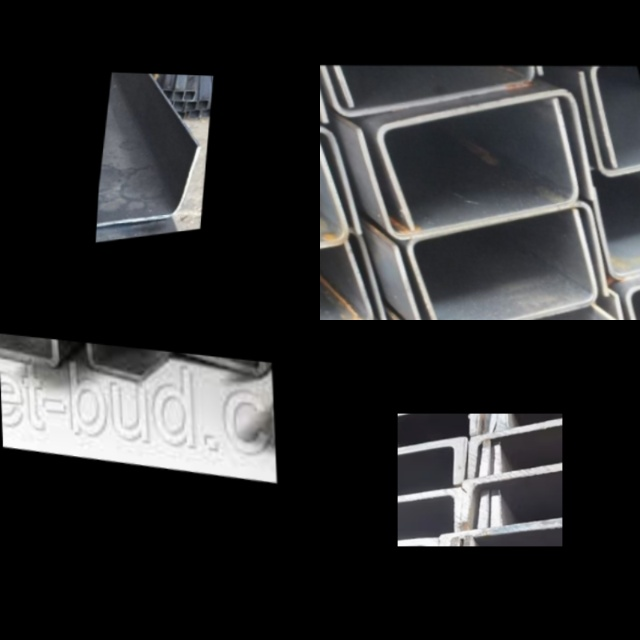Shveller: (348, 96, 595, 241), (369, 88, 604, 232), (386, 203, 614, 320), (397, 203, 625, 320), (580, 144, 640, 275), (462, 454, 562, 531), (97, 147, 200, 221), (320, 236, 390, 320), (468, 414, 562, 476), (398, 441, 488, 499), (398, 493, 490, 545), (493, 463, 562, 526), (320, 247, 377, 320), (438, 514, 562, 546), (497, 414, 562, 472), (464, 512, 562, 546), (398, 414, 481, 453), (156, 351, 268, 379), (606, 251, 640, 320), (86, 343, 142, 383), (613, 247, 640, 320), (0, 333, 55, 367), (486, 414, 562, 432), (498, 414, 562, 428)
